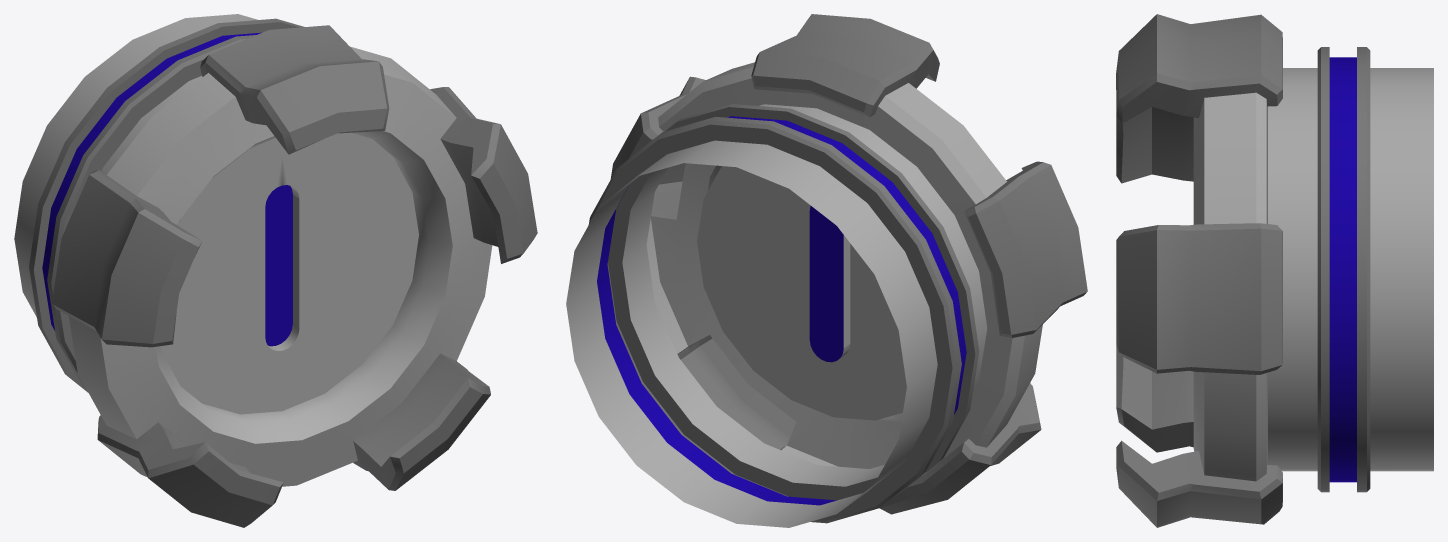
File: Geo_Energypuller.fbx
The picture shows the model from 3 angles, left to right: view 1: azimuth 30°, elevation 25°; view 2: azimuth 150°, elevation 25°; view 3: azimuth 270°, elevation 25°; orthographic projection. The views are drawn at different scales.
Parts seen in each view (by area): view 1: pCylinder5; view 2: pCylinder5; view 3: pCylinder5.
Boxes of the visible parts, x1,y1,x2,y2 form: pCylinder5: [14, 14, 537, 527]; pCylinder5: [566, 14, 1087, 527]; pCylinder5: [1116, 14, 1433, 527].
Bounding box in the file's own units: 76.49 × 74.35 × 46.93.
